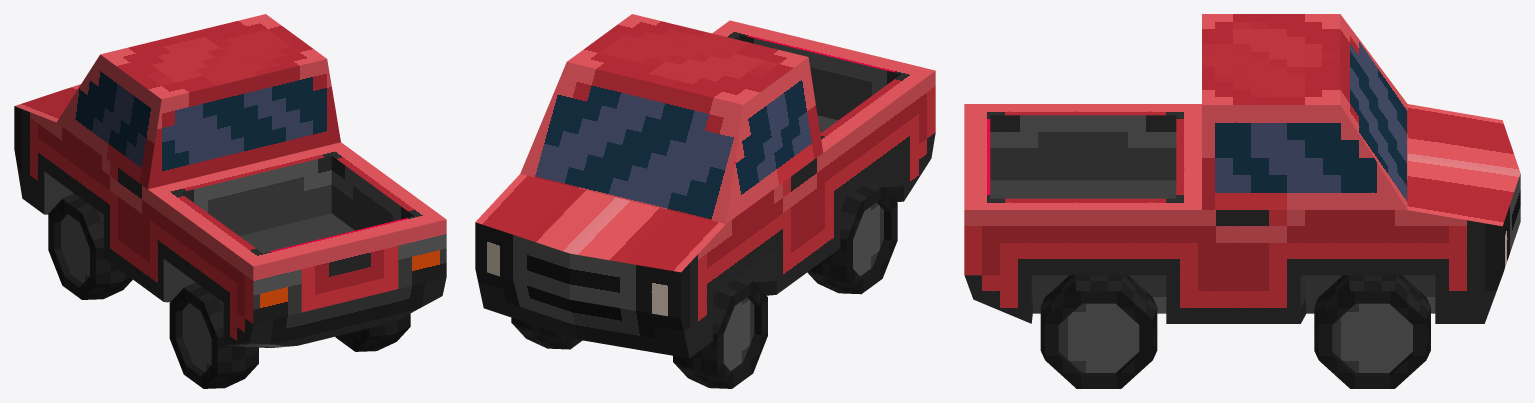
Rendered from Pickup Truck.gltf.
The picture shows the model from 3 angles, left to right: view 1: azimuth 30°, elevation 25°; view 2: azimuth 150°, elevation 25°; view 3: azimuth 270°, elevation 25°; orthographic projection. The views are drawn at different scales.
Parts seen in each view (by area): view 1: cuboid, r_l, f_l, r_r; view 2: cuboid, r_l, f_l, f_r; view 3: cuboid, r_r, f_r.
Boxes of the visible parts, x1,y1,x2,y2 form: cuboid: [14, 14, 446, 347]; r_l: [169, 282, 258, 388]; f_l: [48, 193, 132, 299]; r_r: [335, 313, 410, 351]; cuboid: [475, 14, 935, 358]; r_l: [807, 180, 897, 294]; f_l: [673, 275, 767, 388]; f_r: [511, 317, 582, 349]; cuboid: [964, 14, 1520, 323]; r_r: [1040, 275, 1157, 388]; f_r: [1314, 275, 1430, 388].
Size of the model in its own units: 0.875 by 1.08 by 1.94.
Materials: 1 (1 with a texture image).
